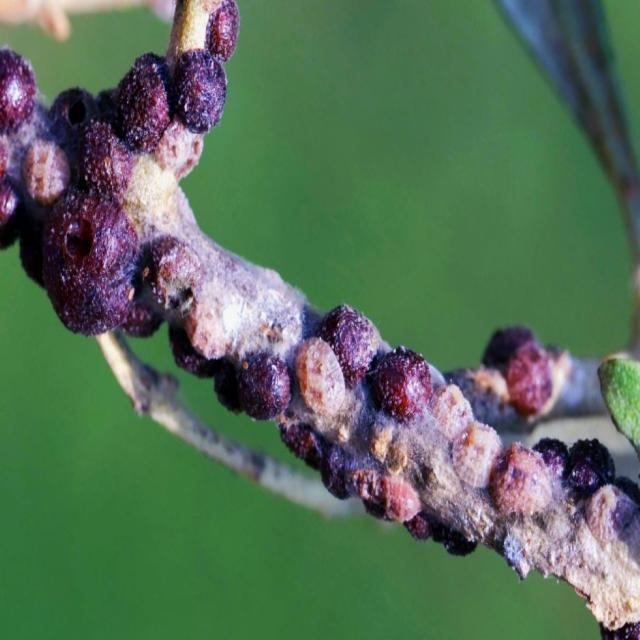BlackScale: (236, 304, 444, 538), (0, 47, 156, 335), (452, 420, 640, 639), (114, 0, 238, 169), (482, 326, 569, 418), (168, 323, 242, 413), (142, 235, 205, 318)
